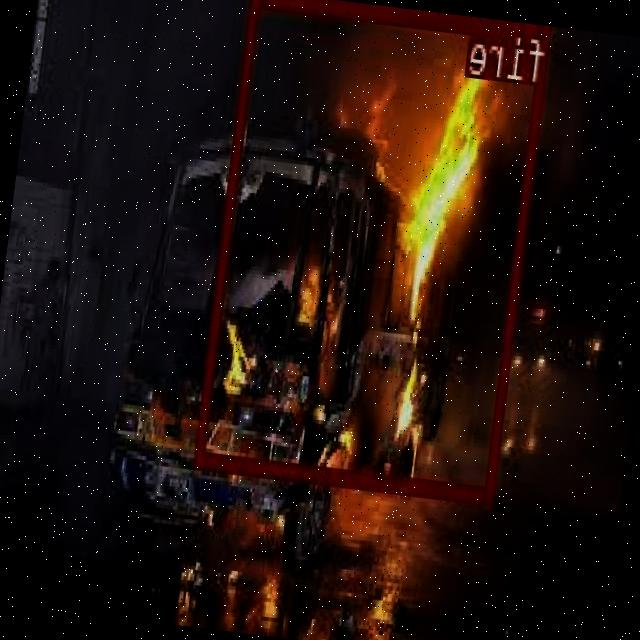fire: (196, 0, 553, 502)
